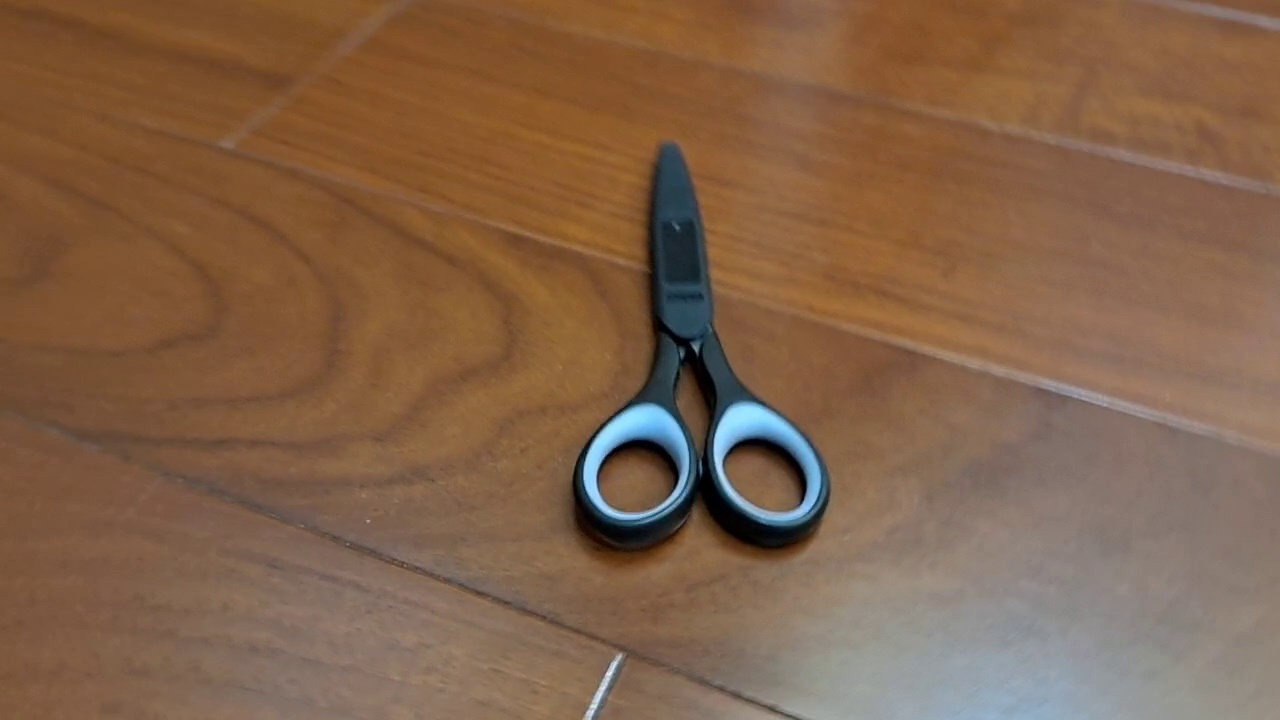scissors: (571, 137, 833, 554)
